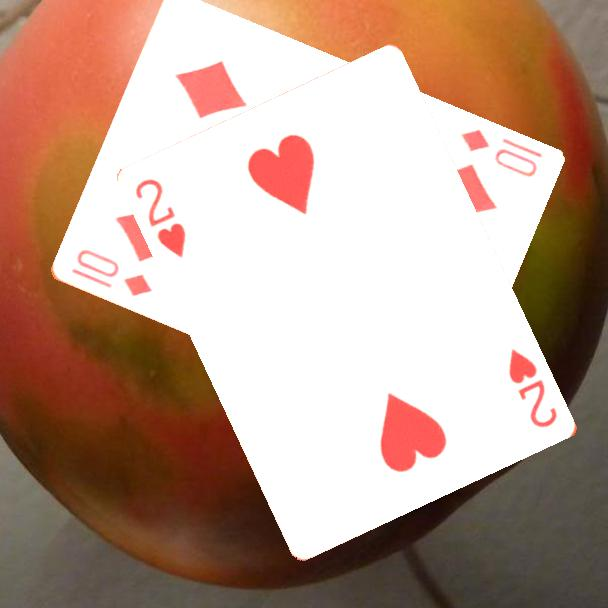d10: (456, 125, 545, 181), (72, 246, 154, 300)
h02: (132, 175, 190, 261), (505, 345, 562, 431)
